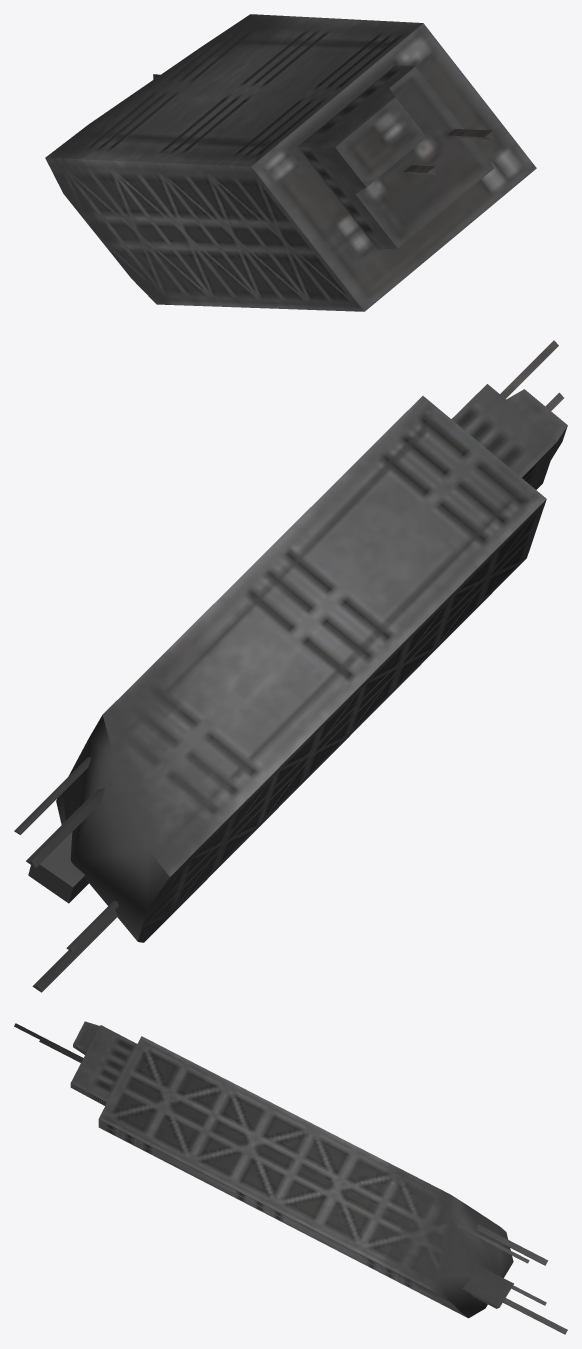
File: skyBuildingAAA_pos_grp (14).fbx
3 views of the same model, one above another, from view 1: azimuth 30°, elevation 25°; view 2: azimuth 150°, elevation 25°; view 3: azimuth 270°, elevation 25° (orthographic). The views are drawn at different scales.
Visible parts, largest first — view 1: skyBuildingAAA_geo; view 2: skyBuildingAAA_geo; view 3: skyBuildingAAA_geo.
Part boxes in pixels (x1,y1,x2,y2): skyBuildingAAA_geo: [45, 14, 536, 311]; skyBuildingAAA_geo: [14, 340, 567, 992]; skyBuildingAAA_geo: [14, 1021, 567, 1334].
Bounding box in the file's own units: 4.63 × 6.18 × 11.38.
